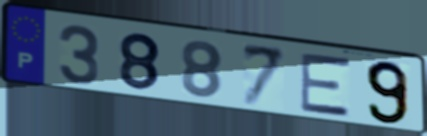3: (57, 23, 101, 86)
7: (240, 41, 288, 110)
8: (117, 31, 164, 93), (179, 39, 226, 100)
9: (362, 58, 413, 127)
E: (298, 52, 354, 119)
